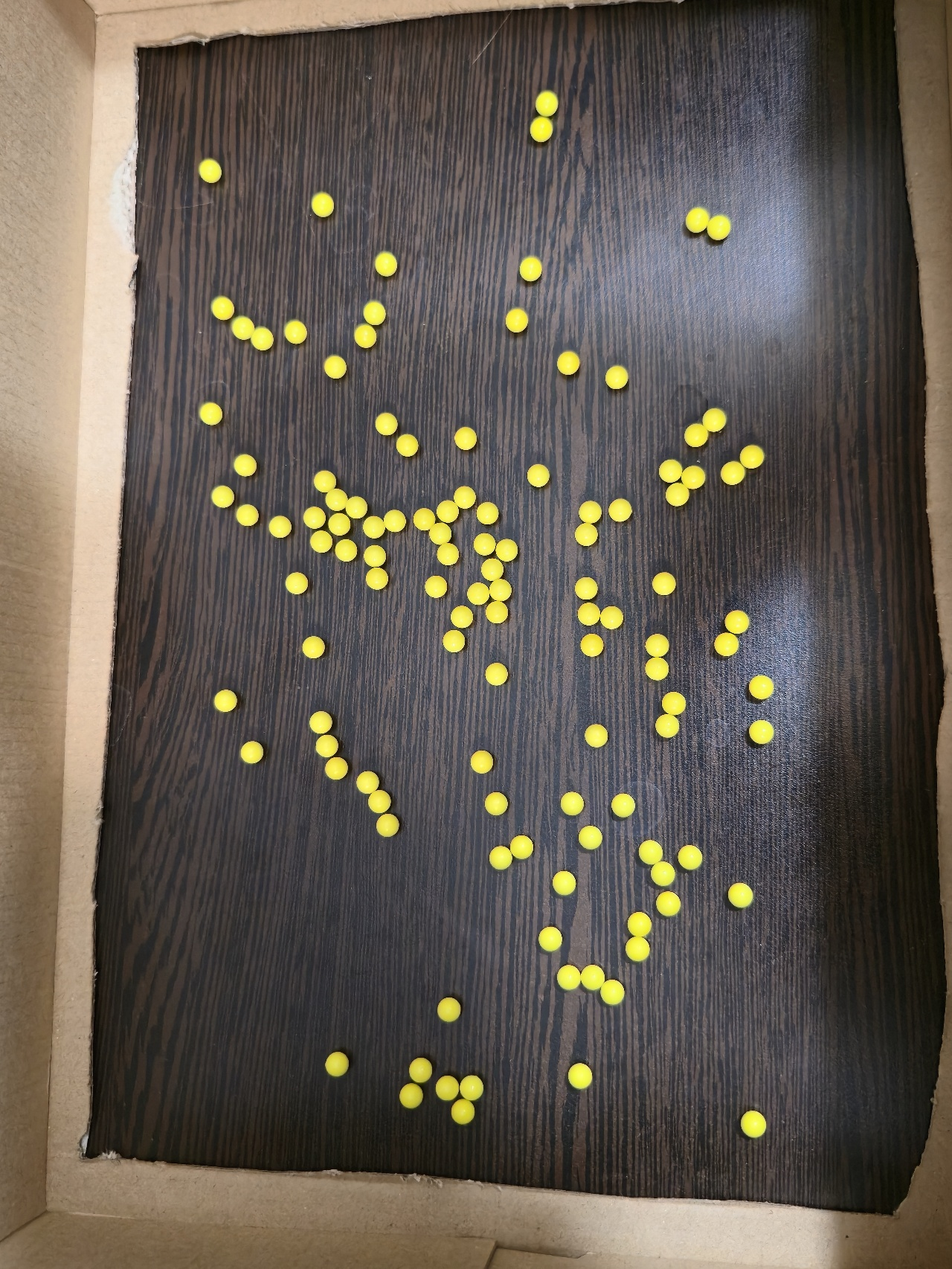yellow_bead: (691, 213, 706, 228), (747, 1117, 761, 1132), (656, 867, 670, 881), (465, 1081, 478, 1095), (573, 1070, 587, 1083), (562, 971, 576, 984), (712, 220, 725, 234), (441, 1082, 454, 1095), (606, 986, 619, 999), (586, 971, 599, 984), (734, 889, 747, 902), (684, 851, 697, 864), (644, 846, 657, 859), (515, 841, 528, 854), (661, 719, 674, 732), (727, 467, 740, 480), (690, 429, 703, 442), (255, 332, 268, 345), (237, 321, 250, 334), (756, 725, 768, 739), (611, 370, 623, 384), (368, 306, 380, 320), (525, 261, 536, 276), (457, 1106, 469, 1119), (415, 1064, 427, 1077), (331, 1058, 343, 1071), (631, 944, 644, 956), (544, 933, 557, 945), (633, 919, 646, 931), (558, 877, 570, 890), (617, 800, 630, 812), (566, 798, 579, 810), (668, 698, 681, 710), (756, 681, 768, 694), (731, 617, 744, 629), (580, 528, 592, 541), (708, 414, 721, 426), (216, 301, 228, 314), (204, 164, 216, 177), (541, 98, 553, 111), (380, 257, 391, 271), (405, 1090, 417, 1102), (584, 832, 596, 844), (721, 639, 733, 651), (486, 564, 498, 576), (665, 465, 677, 477), (204, 408, 216, 420), (329, 361, 341, 373), (662, 899, 675, 910), (331, 495, 344, 506), (359, 329, 370, 342), (443, 1004, 454, 1016), (495, 852, 506, 864), (382, 820, 393, 832), (490, 799, 502, 810), (591, 730, 602, 742), (219, 696, 231, 707), (651, 664, 663, 675), (448, 636, 460, 647), (605, 613, 617, 624), (456, 612, 468, 623), (658, 579, 670, 590), (315, 536, 327, 547), (368, 522, 380, 533), (389, 515, 400, 527), (442, 507, 454, 518), (614, 505, 626, 516), (672, 489, 683, 501), (686, 472, 698, 483), (745, 451, 756, 463), (511, 315, 522, 327), (317, 200, 328, 212), (374, 797, 385, 808), (362, 777, 373, 788), (476, 757, 487, 768), (321, 741, 332, 752), (652, 641, 663, 652), (584, 609, 595, 620), (473, 589, 484, 600), (495, 584, 506, 595), (501, 545, 512, 556), (435, 528, 446, 539), (274, 522, 285, 533), (482, 508, 493, 519), (585, 507, 596, 518), (350, 502, 361, 513), (239, 460, 250, 471), (402, 440, 413, 451), (460, 433, 471, 444), (289, 327, 300, 338), (492, 606, 502, 618), (341, 544, 351, 556), (460, 492, 470, 504), (216, 492, 228, 502), (246, 748, 257, 758), (315, 718, 326, 728), (492, 669, 502, 680), (308, 642, 318, 653), (581, 584, 592, 594), (431, 582, 441, 593), (291, 579, 302, 589), (372, 573, 382, 584), (370, 551, 380, 562), (443, 549, 453, 560), (334, 519, 344, 530), (419, 515, 430, 525), (309, 513, 319, 524), (241, 510, 251, 521), (533, 471, 544, 481), (320, 477, 330, 487), (381, 420, 391, 430), (332, 764, 341, 774), (562, 359, 571, 369), (586, 643, 597, 651), (479, 539, 490, 545)
